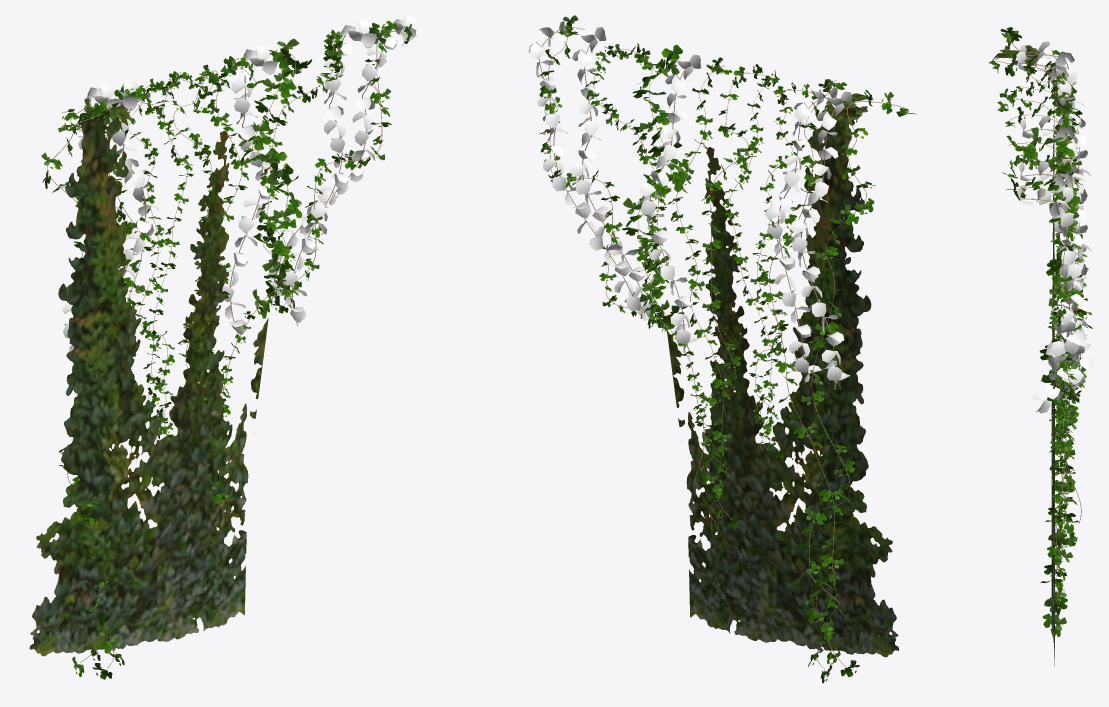
Rendered from ivywall_c.glb.
The picture shows the model from 3 angles, left to right: view 1: azimuth 30°, elevation 25°; view 2: azimuth 150°, elevation 25°; view 3: azimuth 270°, elevation 25°; orthographic projection. The views are drawn at different scales.
Visible parts, largest first — view 1: IvyWall_C; view 2: IvyWall_C; view 3: IvyWall_C.
Part boxes in pixels (x1,y1,x2,y2): IvyWall_C: (29,14,417,679); IvyWall_C: (528,15,916,683); IvyWall_C: (989,27,1093,666).
Bounding box in the file's own units: 1.71 × 2.34 × 0.4124.
Materials: 4 (2 with a texture image).
